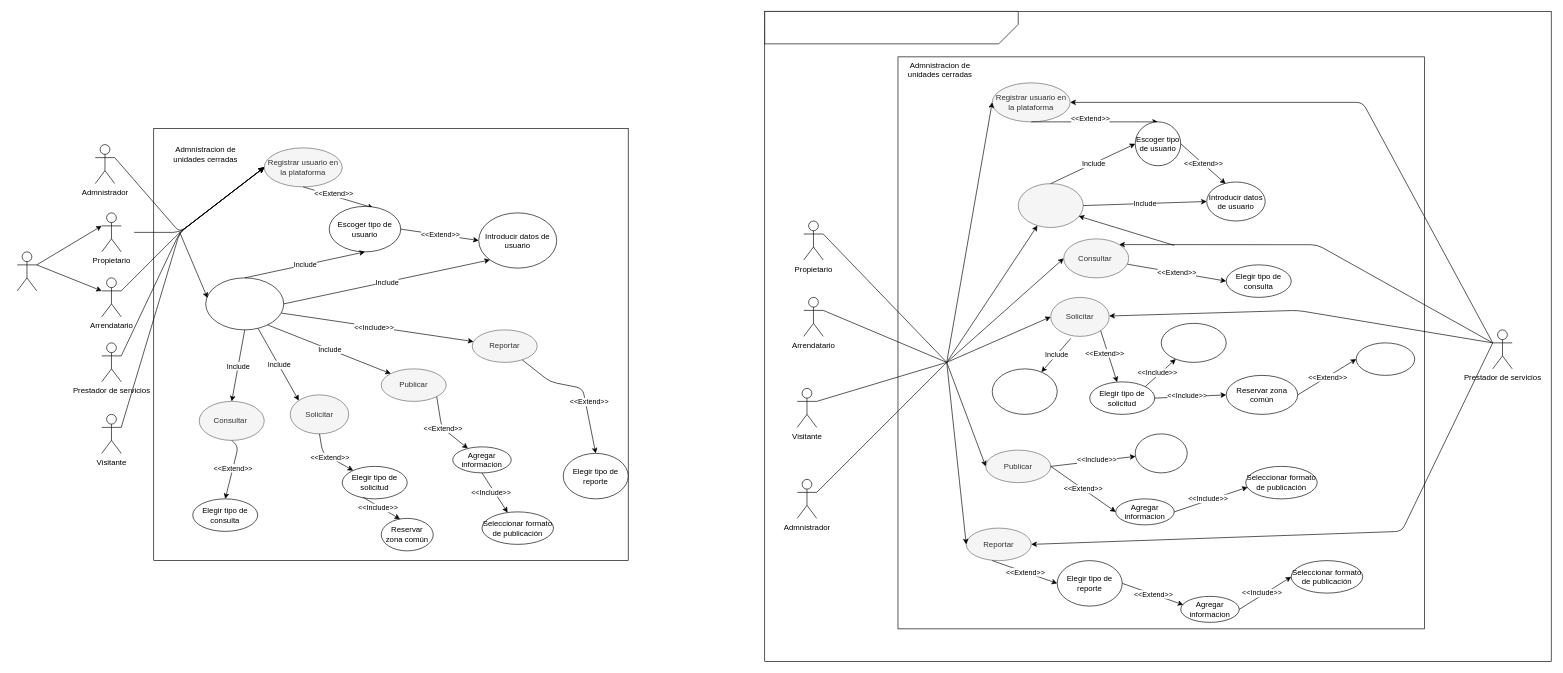
This 1563x673 diagram has some shape labels left out. The centre of each missing label's shape, as x and y in pixels:
Acceder a la plataforma: point 244,303
Cancelar reserva: point 1193,342
Eliminar publicacion: point 1161,453
Entrar a la plataforma: point 1050,205
Escoger zona comun: point 1385,358
Generar preguntas o aclaraciones: point 1024,391
habitante: point 27,271
uc interfaz de administracion_CasosDeUso: point 891,27
